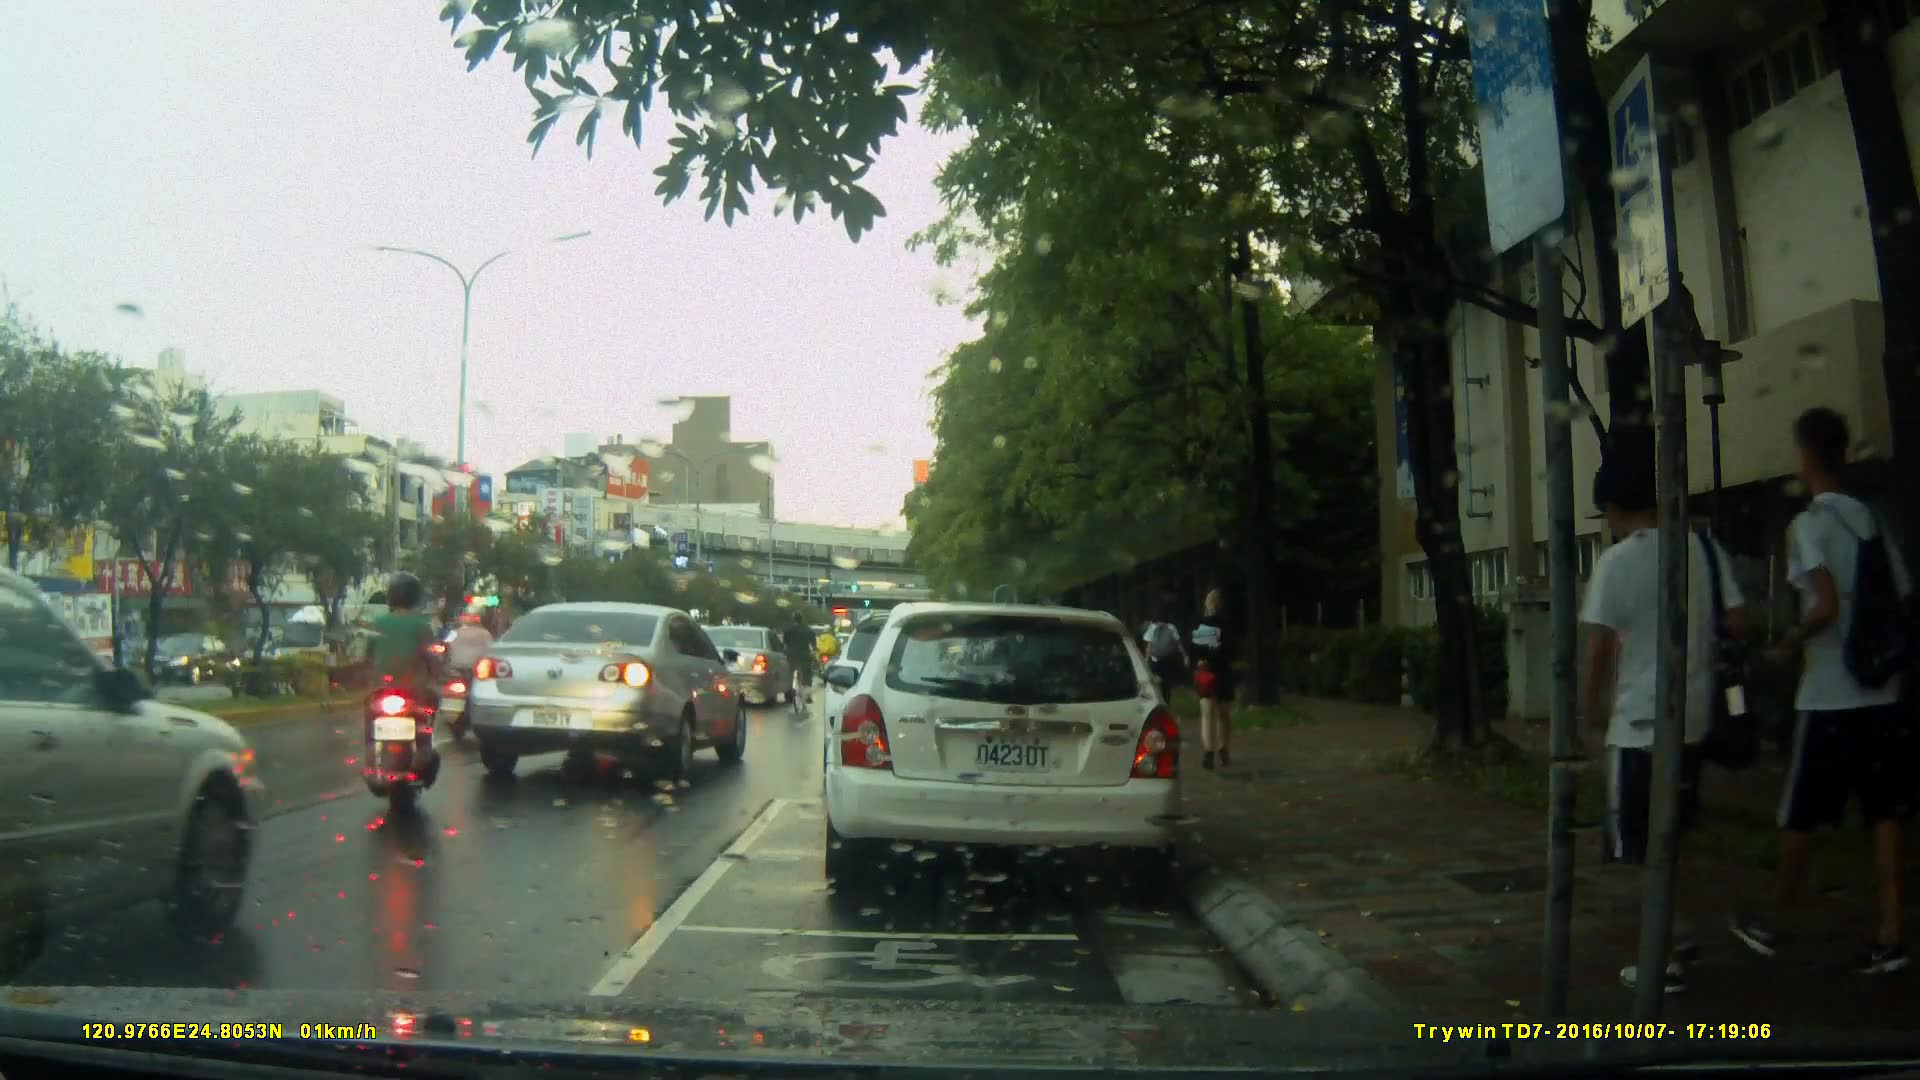pedestrian: (1560, 442, 1727, 988), (1742, 420, 1850, 962), (1174, 578, 1237, 772), (1145, 604, 1193, 732)
rider: (358, 575, 448, 824), (437, 595, 508, 742), (778, 612, 811, 718), (814, 622, 840, 692)
vehicle: (1, 553, 270, 985), (820, 602, 1188, 898), (464, 597, 752, 785), (669, 625, 798, 709)
